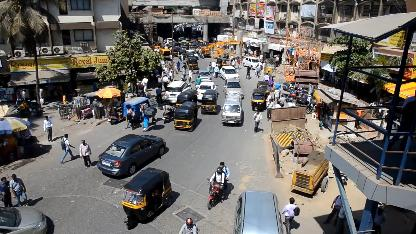auto-rikshaw: (123, 166, 173, 228), (174, 101, 198, 131), (201, 89, 219, 114), (252, 88, 266, 112)
bike: (207, 162, 231, 210)
car: (98, 134, 166, 176), (222, 92, 244, 128), (242, 56, 262, 70), (220, 66, 238, 80)
